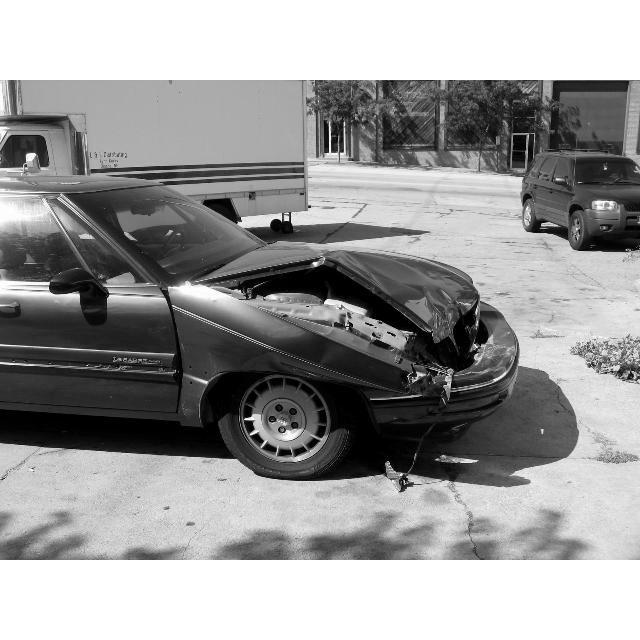bonnet-dent: (235, 231, 462, 320)
doorouter-dent: (1, 270, 166, 427)
fender-dent: (168, 318, 383, 391)
front-bumper-dent: (435, 326, 546, 422)
